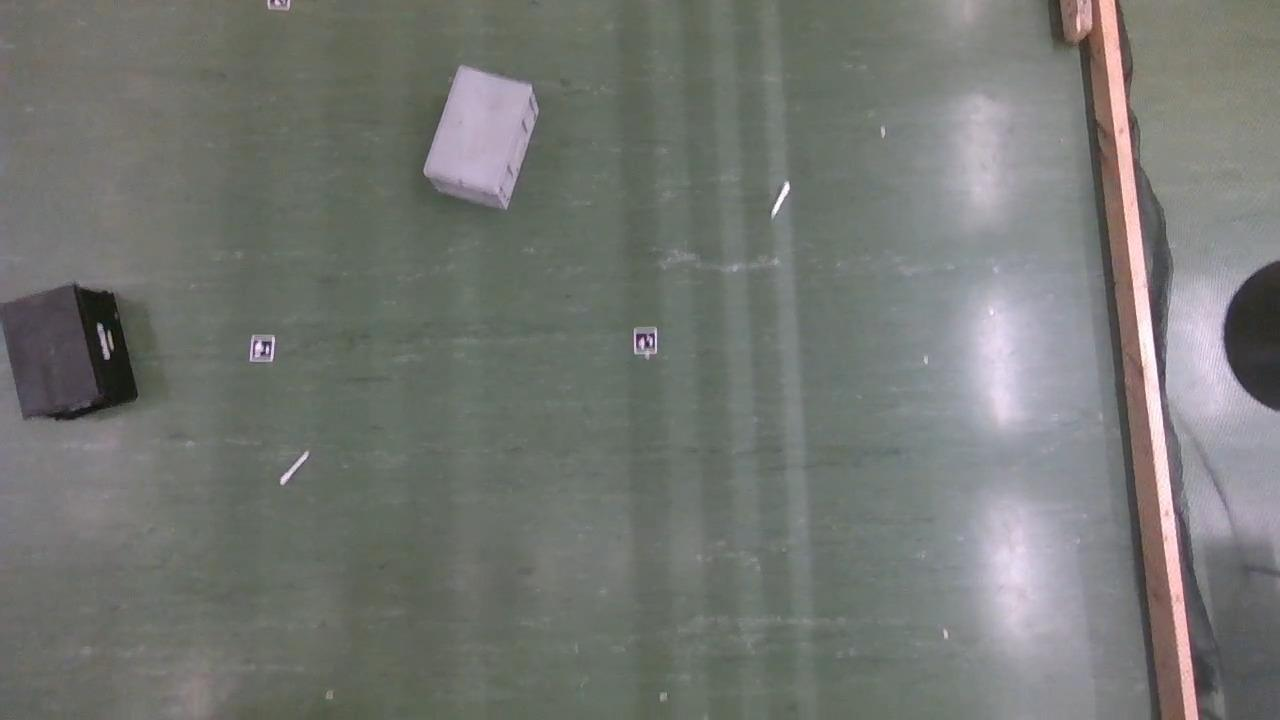probes: (279, 450, 308, 485), (770, 181, 788, 219)
rako: (0, 281, 138, 422), (423, 62, 538, 212)
